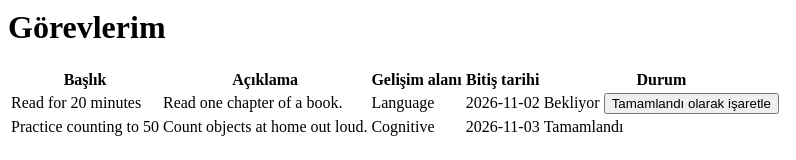
Test case: ChildTasksPage › marks a task as done (FR-M4-04)
What coordinates should you click on to do the following:
click the button with aria-label "Read for 20 minutes görevini tamamlandı olarak işaretle"
I would click on:
 (691, 103)
Its box is [604, 93, 779, 114].
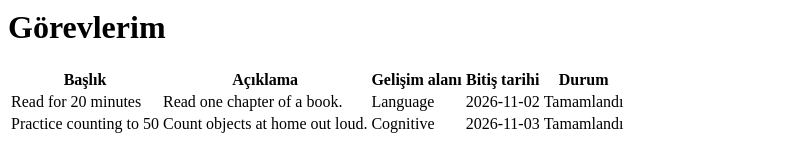
Expected: the text "Tamamlandı" in the row of "Read for 20 minutes" is shown, [544, 93, 624, 110]
Expected: the button "Tamamlandı olarak işaretle" is gone
